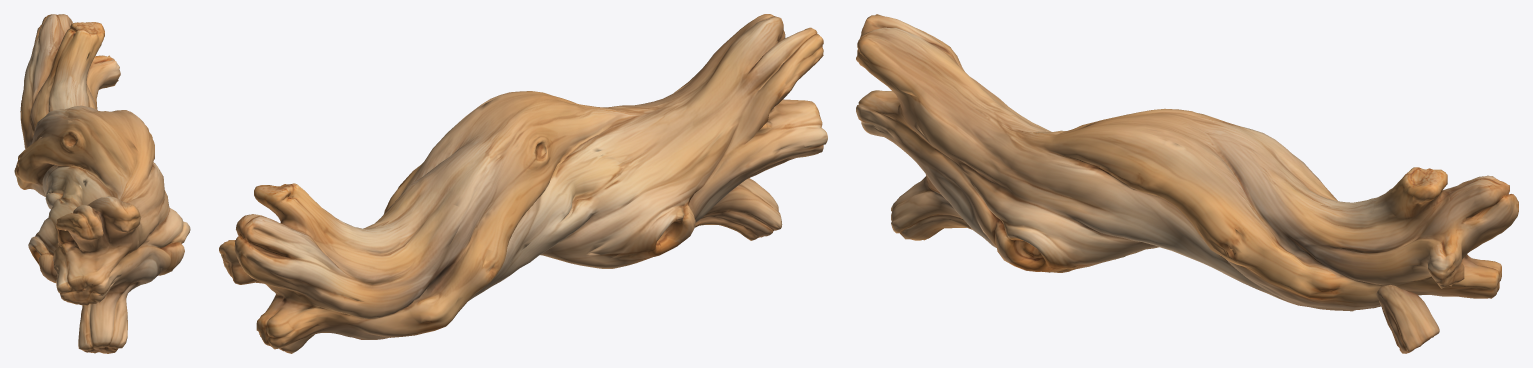
Rendered from driftwood.glb.
The picture shows the model from 3 angles, left to right: view 1: azimuth 30°, elevation 25°; view 2: azimuth 150°, elevation 25°; view 3: azimuth 270°, elevation 25°; orthographic projection. The views are drawn at different scales.
Visible parts, largest first — view 1: tripo_node_6b7f0b74-7f4f-4fbd-867f-8830b8371322; view 2: tripo_node_6b7f0b74-7f4f-4fbd-867f-8830b8371322; view 3: tripo_node_6b7f0b74-7f4f-4fbd-867f-8830b8371322.
Boxes of the visible parts, left/top/right/bottom form: tripo_node_6b7f0b74-7f4f-4fbd-867f-8830b8371322: left=14, top=14, right=190, bottom=353; tripo_node_6b7f0b74-7f4f-4fbd-867f-8830b8371322: left=219, top=14, right=827, bottom=353; tripo_node_6b7f0b74-7f4f-4fbd-867f-8830b8371322: left=856, top=14, right=1518, bottom=353.
Size of the model in its own units: 0.5998 by 0.343 by 0.9793.
Materials: 1 (1 with a texture image).
